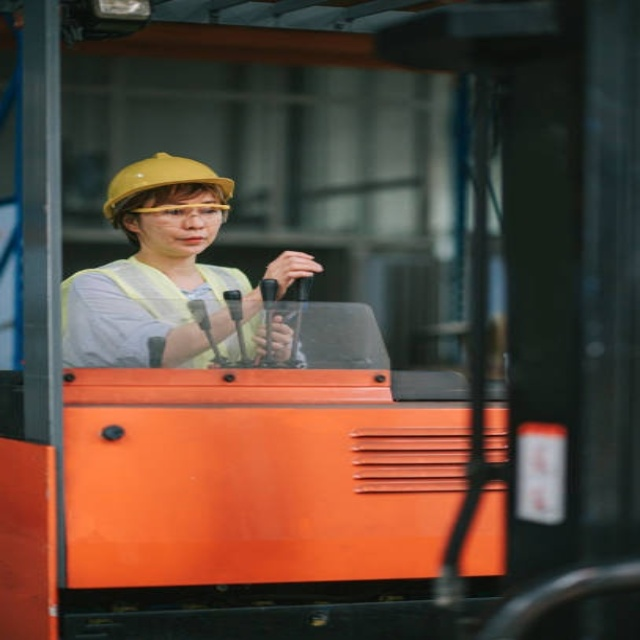Gafas: (130, 203, 231, 219)
Sin_guantes: (264, 249, 326, 288), (250, 316, 296, 360)
Sin_mascara: (162, 231, 215, 250)
